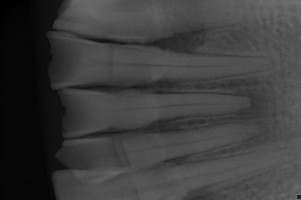Furcation Involvement: (230, 88, 269, 121)
